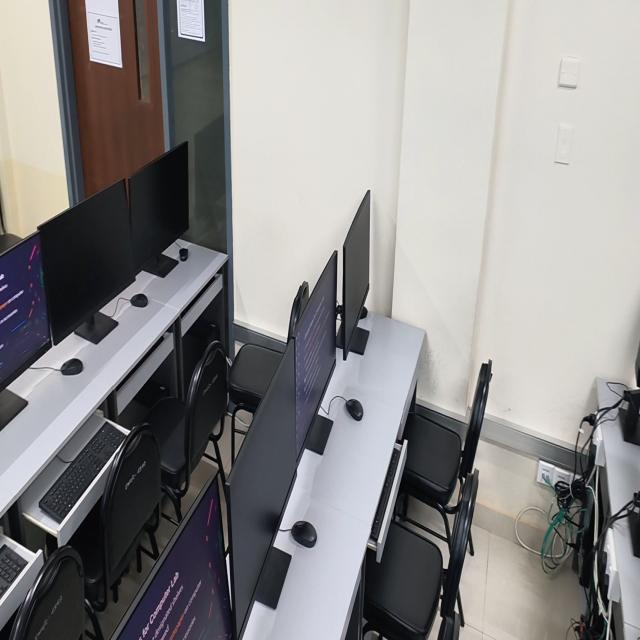Chair: (363, 470, 478, 639), (69, 424, 161, 612), (400, 361, 491, 542), (145, 341, 227, 502), (227, 281, 309, 413), (9, 545, 85, 639), (438, 611, 460, 639), (0, 233, 22, 254)
Cpu: (576, 467, 597, 582), (136, 375, 170, 408), (192, 312, 222, 345)
Keyboard: (39, 423, 125, 523), (370, 441, 402, 546), (0, 545, 27, 597)
Monitor: (226, 340, 298, 639), (117, 478, 231, 639), (39, 180, 136, 345), (0, 232, 51, 430), (295, 251, 336, 461), (129, 142, 188, 277), (340, 190, 370, 360), (618, 343, 640, 445)
Mouse: (290, 521, 317, 546), (345, 399, 363, 421), (60, 358, 83, 375), (130, 293, 148, 308), (179, 249, 188, 261), (360, 306, 368, 319)
